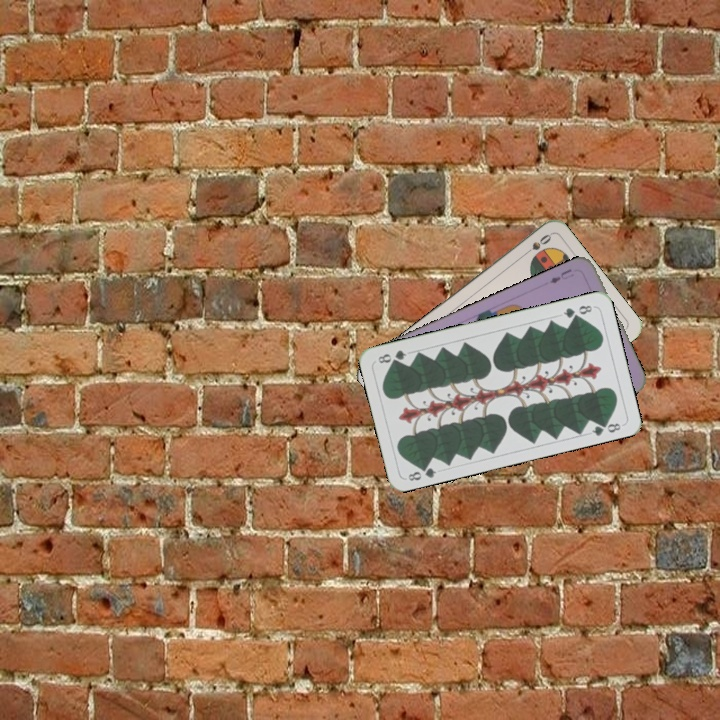EU: (546, 265, 577, 286)
G8: (404, 460, 439, 484), (559, 301, 597, 321)
SO: (519, 230, 554, 259)
